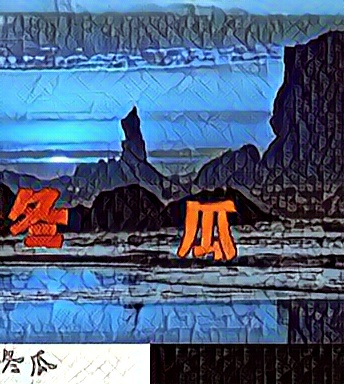B6AC: (5, 185, 74, 249)
B9CF: (175, 196, 244, 260)
